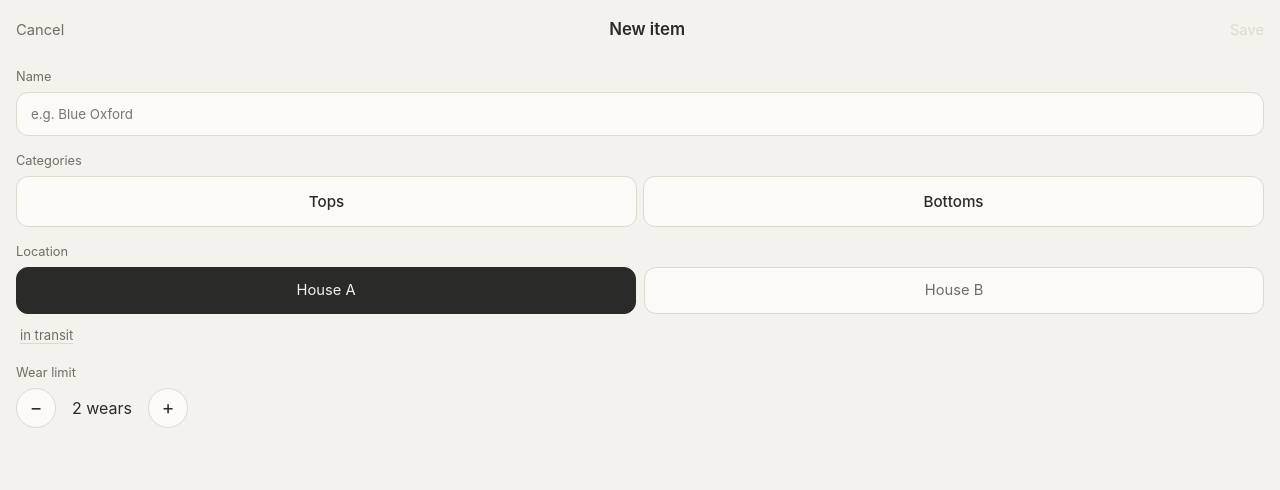
it: NewItemView › disables Save until name and at least one category are present
Check: the button with test id "save" is disabled, box [1230, 8, 1264, 52]
Type "Blue Oxford" into the field with test id "name" at (640, 114), box [16, 92, 1264, 136]
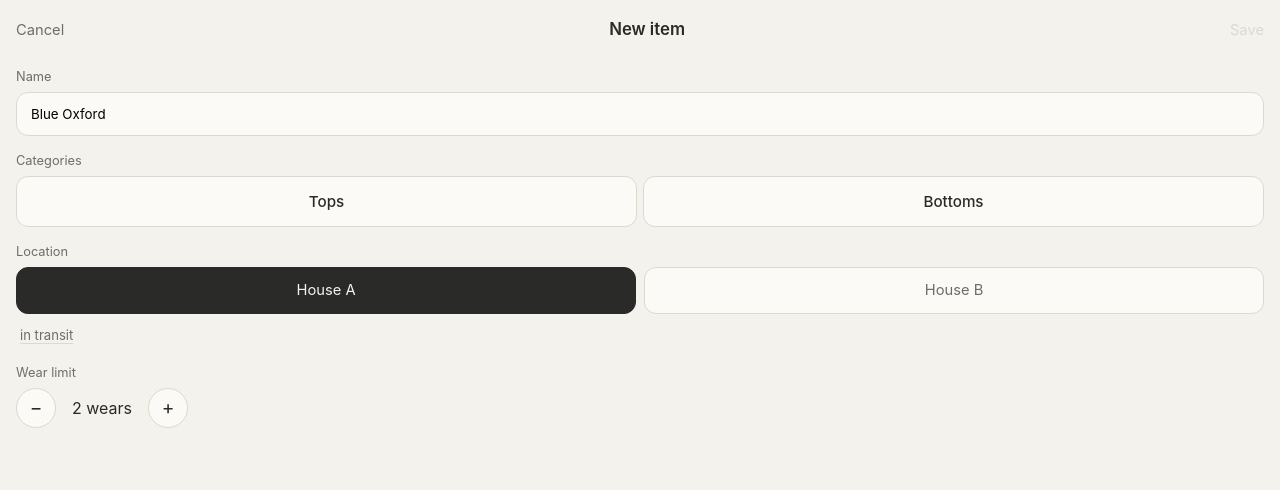
Check: the button with test id "save" is disabled, box [1230, 8, 1264, 52]
Click the button "Tops" at (326, 201), box [16, 176, 637, 227]
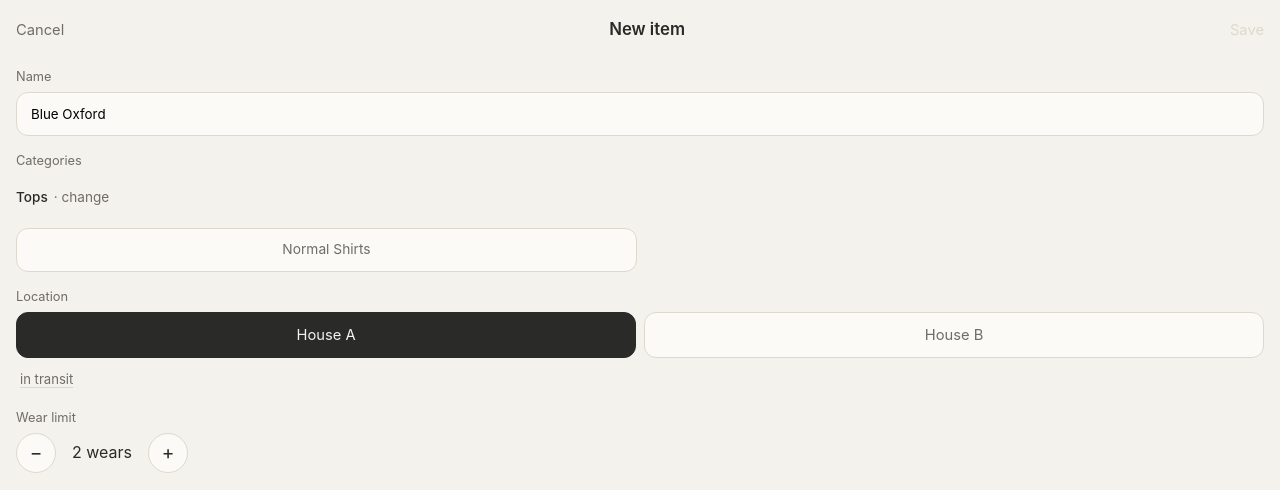
Click the button "Normal Shirts" at (326, 250), box [16, 228, 637, 272]
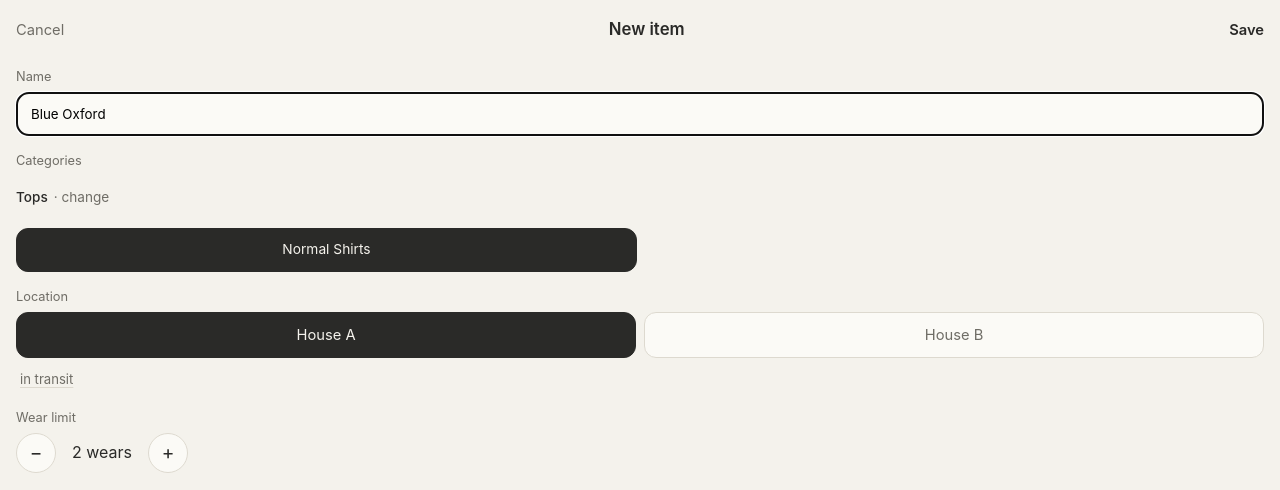
Check: the button with test id "save" is enabled, box [1229, 8, 1264, 52]
